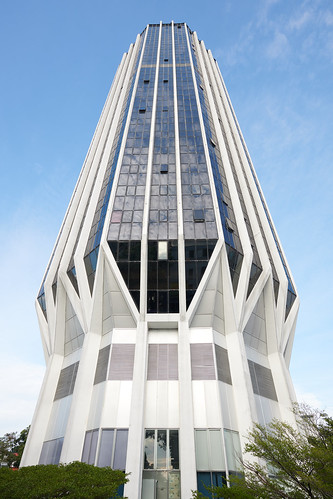high: (27, 15, 308, 499)
